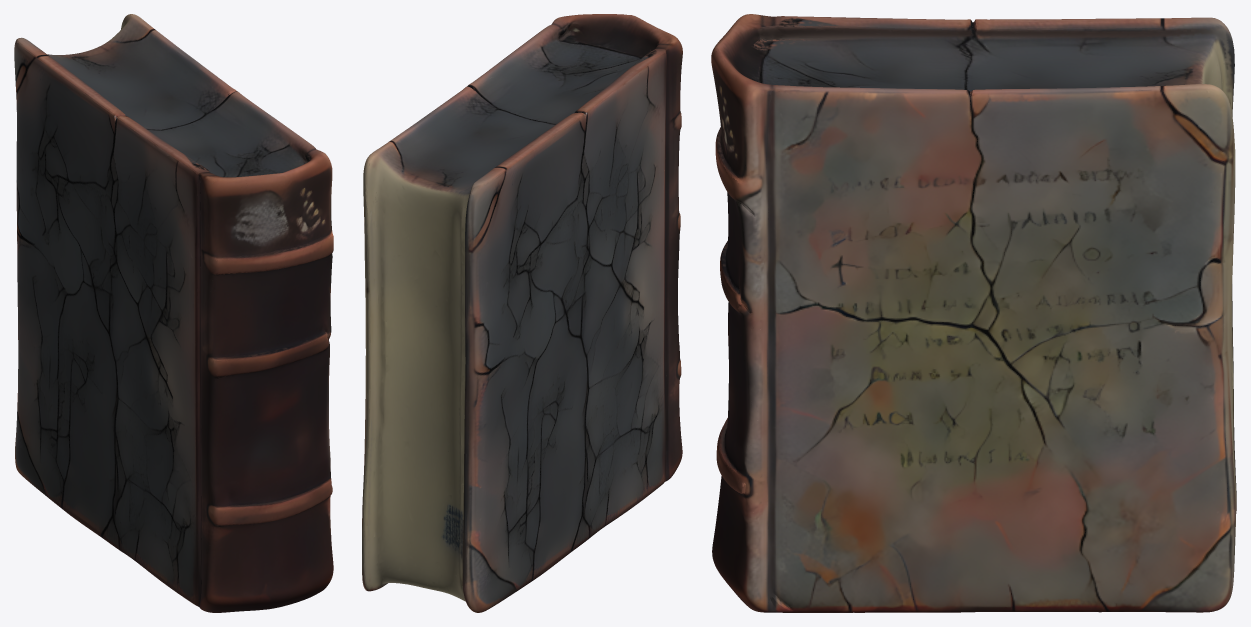
The model's file is base_basic_pbr.fbx.
3 renders of one model, left to right at view 1: azimuth 30°, elevation 25°; view 2: azimuth 150°, elevation 25°; view 3: azimuth 270°, elevation 25°, orthographic. The views are drawn at different scales.
Parts seen in each view (by area): view 1: model; view 2: model; view 3: model.
Boxes of the visible parts, left/top/right/bottom form: model: left=14, top=14, right=333, bottom=612; model: left=362, top=14, right=682, bottom=612; model: left=711, top=14, right=1236, bottom=612.
Bounding box in the file's own units: 57.34 × 190 × 170.
1 material, 1 textured.
